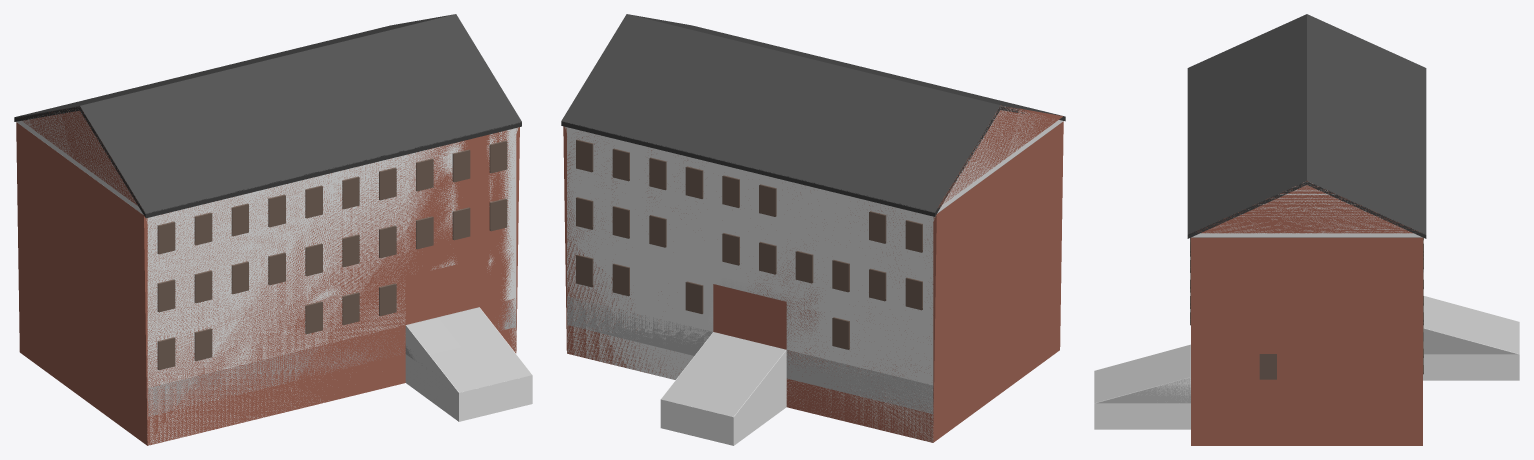
The model's file is eca_bld_warehouse_01_a.dae.
The picture shows the model from 3 angles, left to right: view 1: azimuth 30°, elevation 25°; view 2: azimuth 150°, elevation 25°; view 3: azimuth 270°, elevation 25°; orthographic projection. The views are drawn at different scales.
Parts seen in each view (by area): view 1: eca_bld_warehouse_01_a_a20, eca_bld_warehouse_01_a_a1000, eca_bld_warehouse_01_a_a150, Colmesh-1; view 2: eca_bld_warehouse_01_a_a1000, eca_bld_warehouse_01_a_a20, eca_bld_warehouse_01_a_a150, Colmesh-1; view 3: eca_bld_warehouse_01_a_a20, eca_bld_warehouse_01_a_a1000, Colmesh-1, eca_bld_warehouse_01_a_a150.
Part boxes in pixels (left/top/right/bottom): eca_bld_warehouse_01_a_a20: left=16, top=107, right=519, bottom=445; eca_bld_warehouse_01_a_a1000: left=14, top=14, right=531, bottom=416; eca_bld_warehouse_01_a_a150: left=27, top=106, right=521, bottom=416; Colmesh-1: left=16, top=107, right=532, bottom=445; eca_bld_warehouse_01_a_a1000: left=561, top=14, right=1065, bottom=416; eca_bld_warehouse_01_a_a20: left=563, top=105, right=1063, bottom=442; eca_bld_warehouse_01_a_a150: left=561, top=106, right=1065, bottom=413; Colmesh-1: left=565, top=106, right=1063, bottom=445; eca_bld_warehouse_01_a_a20: left=1191, top=181, right=1422, bottom=445; eca_bld_warehouse_01_a_a1000: left=1094, top=14, right=1519, bottom=403; Colmesh-1: left=1094, top=182, right=1519, bottom=429; eca_bld_warehouse_01_a_a150: left=1187, top=181, right=1426, bottom=379.
Bounding box in the file's own units: 20.4 × 22 × 15.25.
